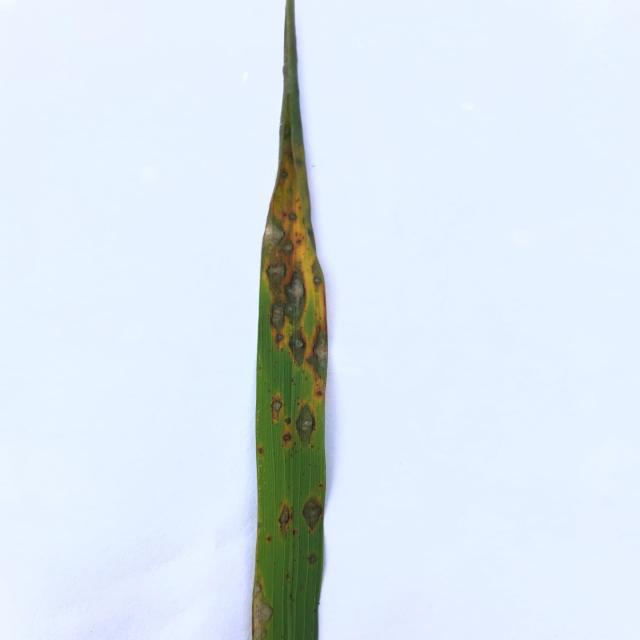leaf blast: (253, 212, 290, 262), (280, 264, 310, 324), (302, 314, 326, 389), (250, 570, 275, 640), (294, 398, 318, 452), (299, 491, 327, 534), (285, 326, 309, 375), (272, 496, 298, 540), (263, 256, 288, 290), (266, 297, 286, 332), (270, 386, 287, 424), (279, 237, 296, 259), (284, 209, 302, 224), (305, 550, 319, 568), (278, 168, 290, 182)
